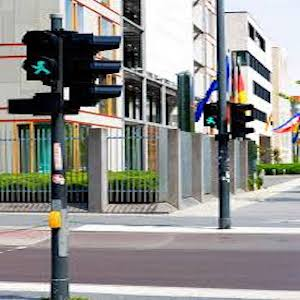green: (28, 58, 53, 81)
